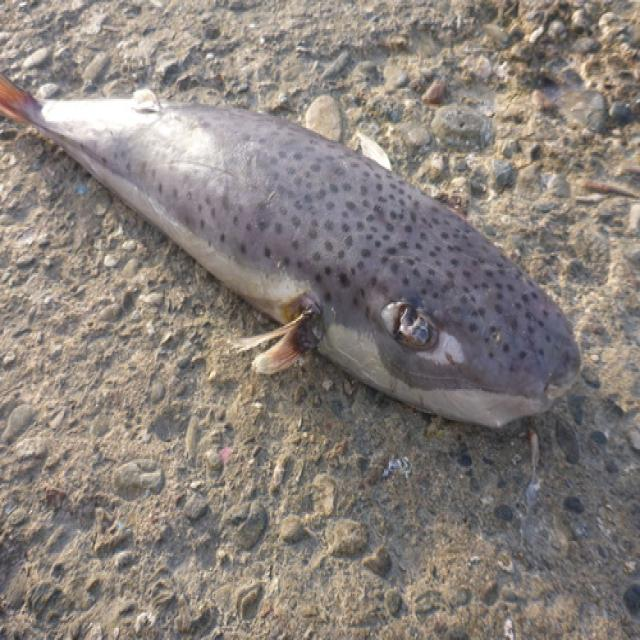Balik: (0, 79, 579, 426)
